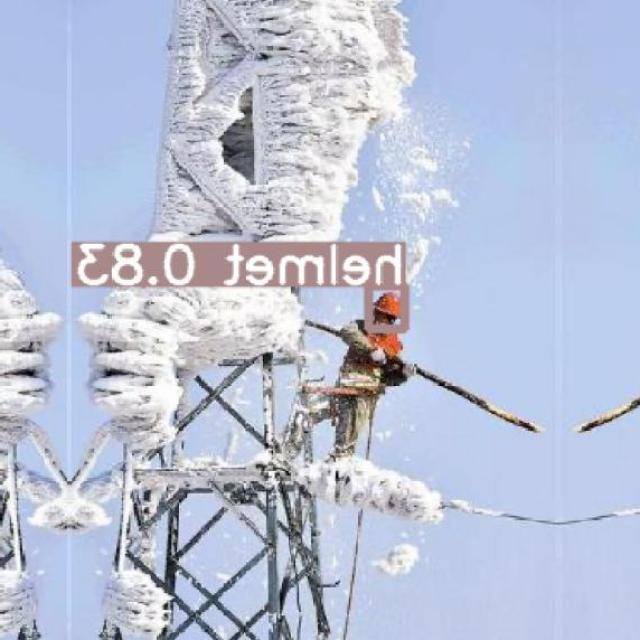helmet: (374, 292, 402, 318)
